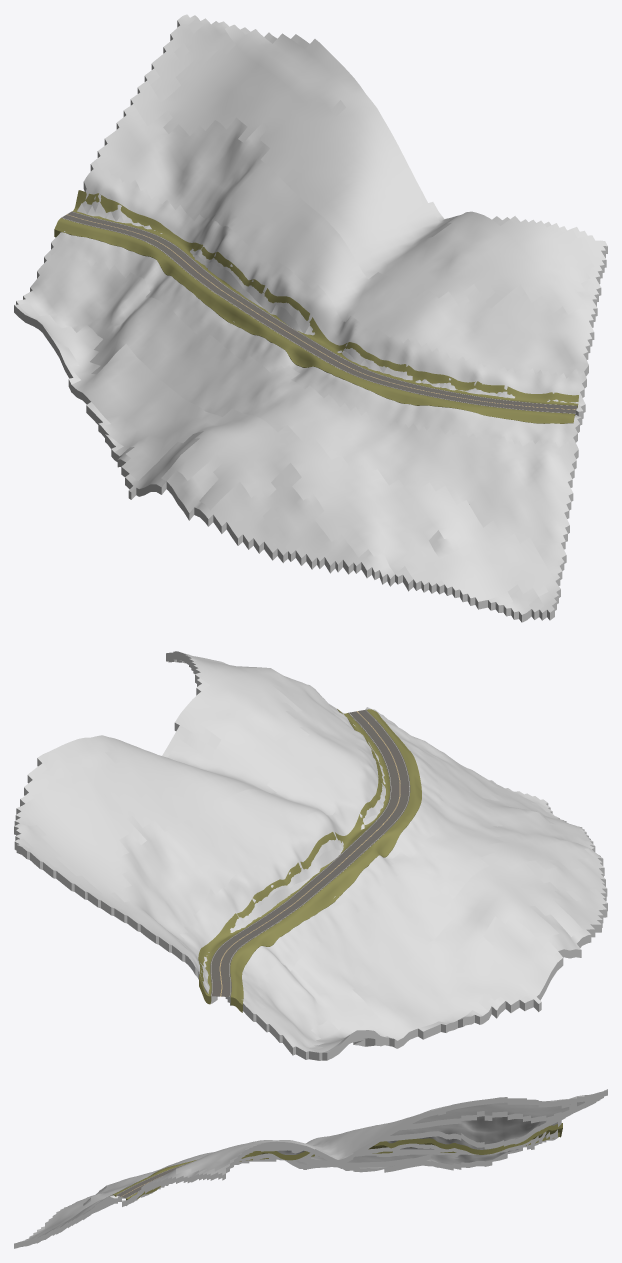
The model's file is conz_168.glb.
3 views of the same model, one above another, from view 1: azimuth 30°, elevation 25°; view 2: azimuth 150°, elevation 25°; view 3: azimuth 270°, elevation 25° (orthographic). The views are drawn at different scales.
Visible parts, largest first — view 1: terrain168, verge168L, road168, verge168R; view 2: terrain168, road168, verge168L, verge168R, paint_white168; view 3: terrain168, verge168R, road168.
Boxes of the visible parts, x1,y1,x2,y2 form: terrain168: (14, 14, 607, 622); verge168L: (54, 218, 575, 423); road168: (61, 211, 577, 413); verge168R: (72, 190, 578, 408); terrain168: (14, 651, 607, 1060); road168: (210, 709, 410, 996); verge168L: (230, 709, 421, 1012); verge168R: (198, 709, 390, 1004); paint_white168: (211, 710, 409, 996); terrain168: (14, 1089, 607, 1248); verge168R: (126, 1123, 562, 1200); road168: (116, 1162, 191, 1198).
Bounding box in the file's own units: 170 × 113 × 308.
